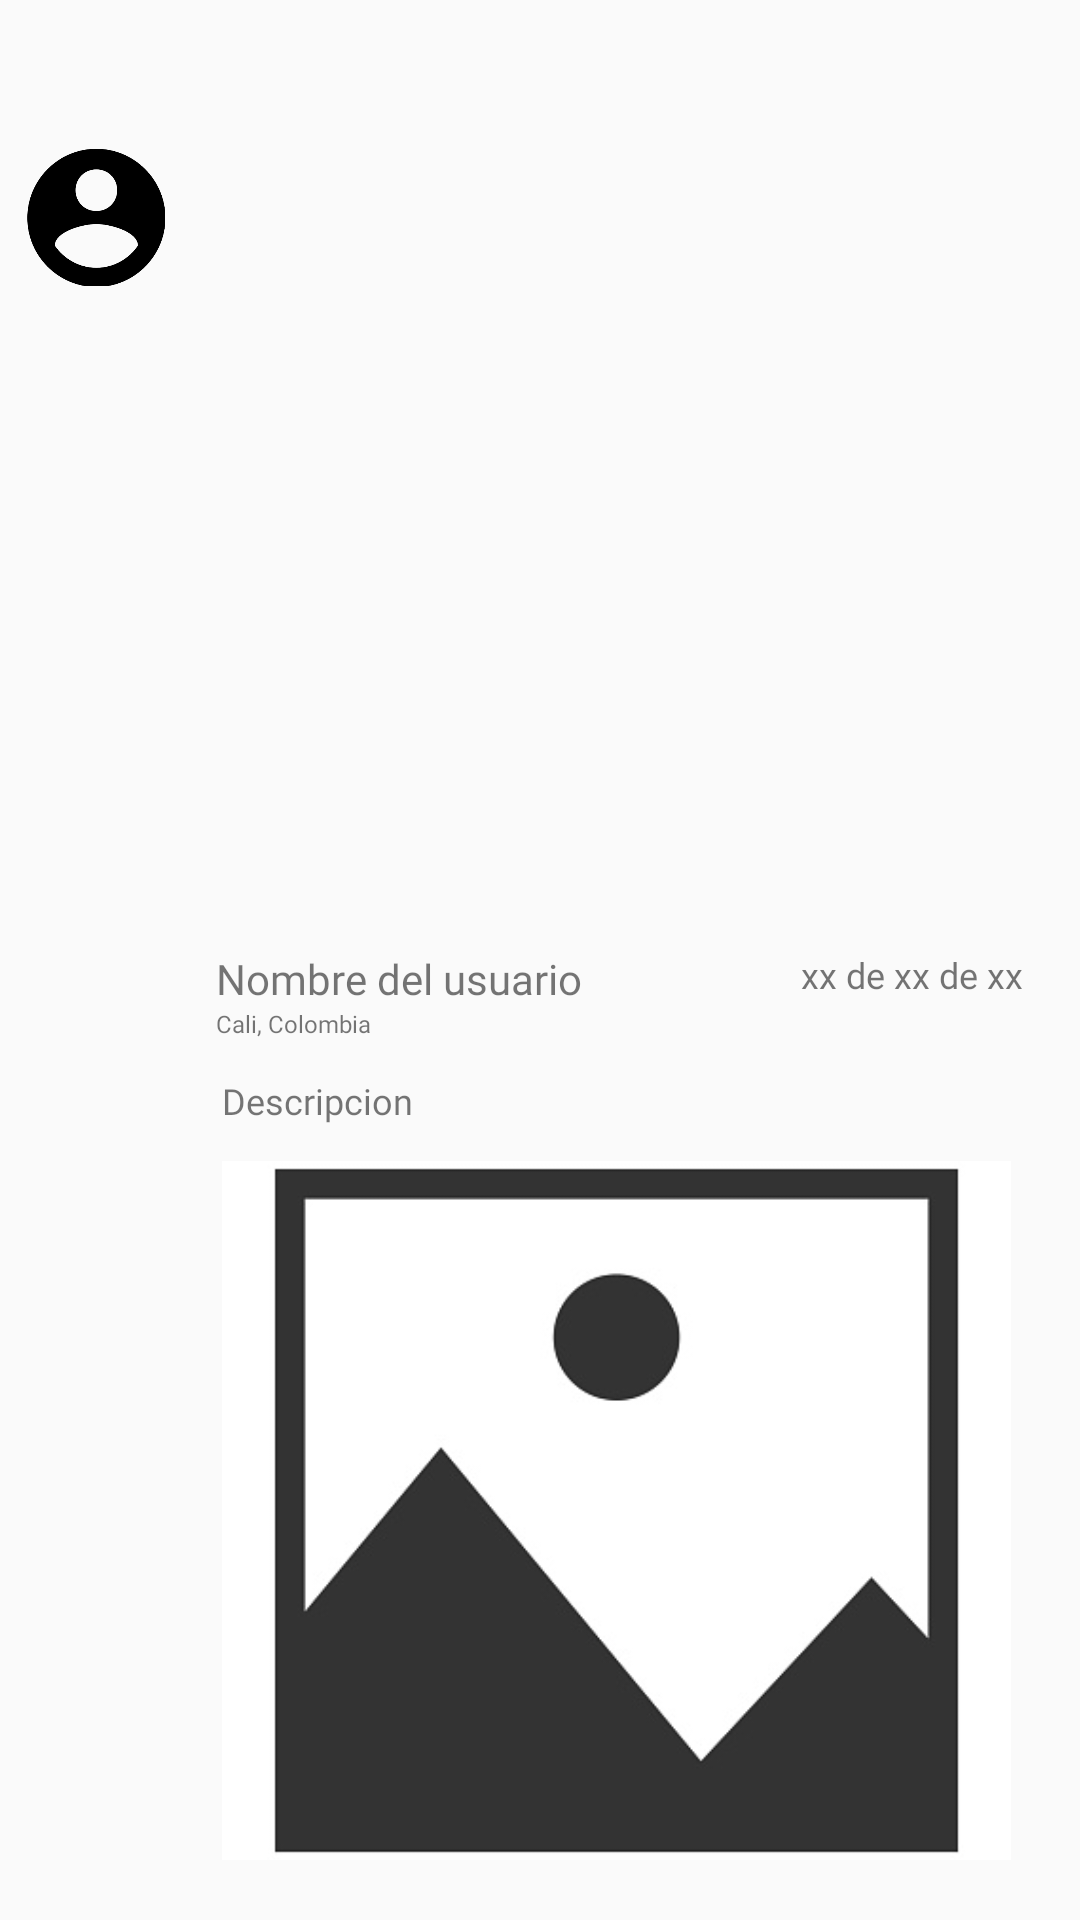

Named icons in this screenshot (1080w x 1920h) and their centers, (x=x, y=y):
profile: (x=96, y=217)
